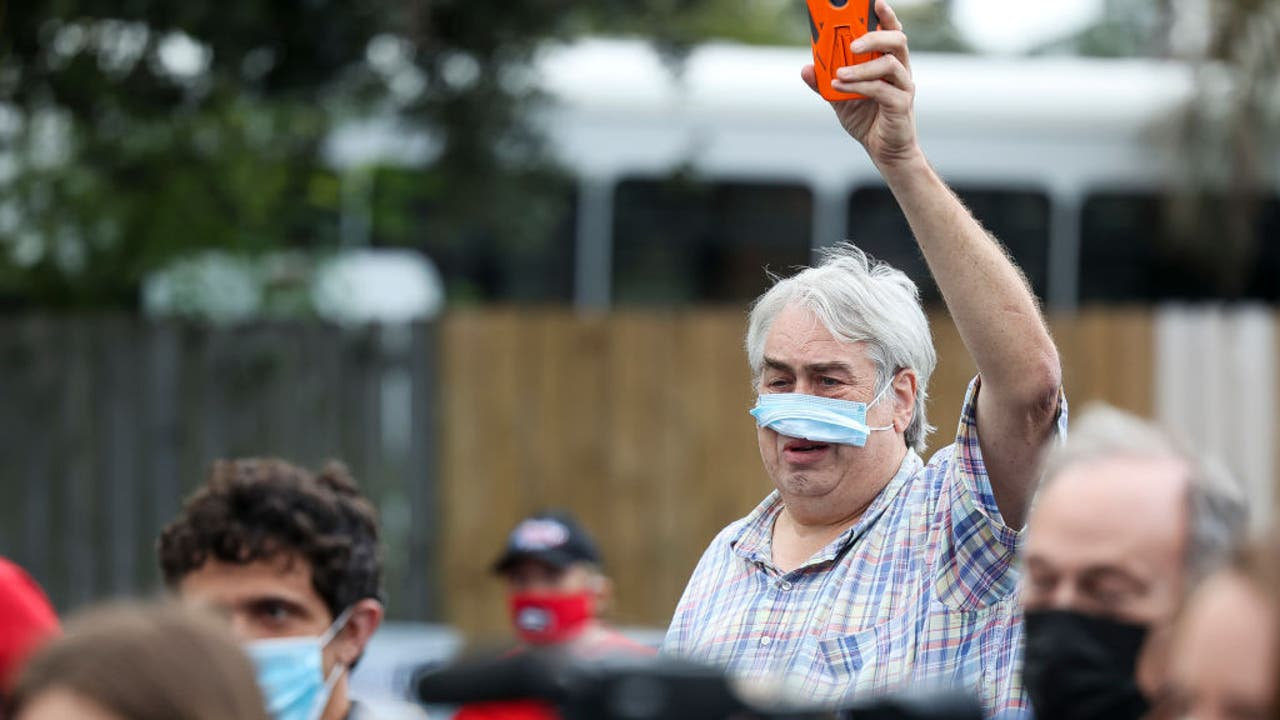with_incorrect_mask: (753, 329, 888, 505)
